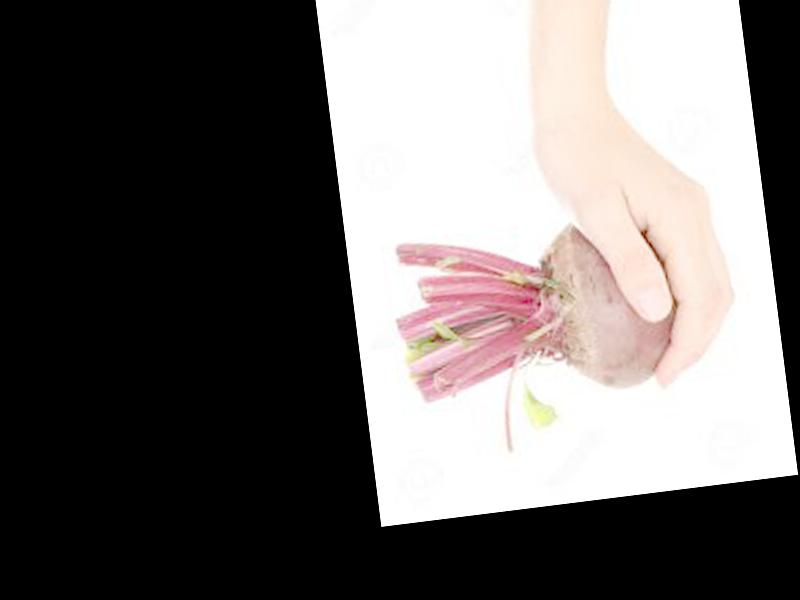Beet: (387, 212, 693, 465)
